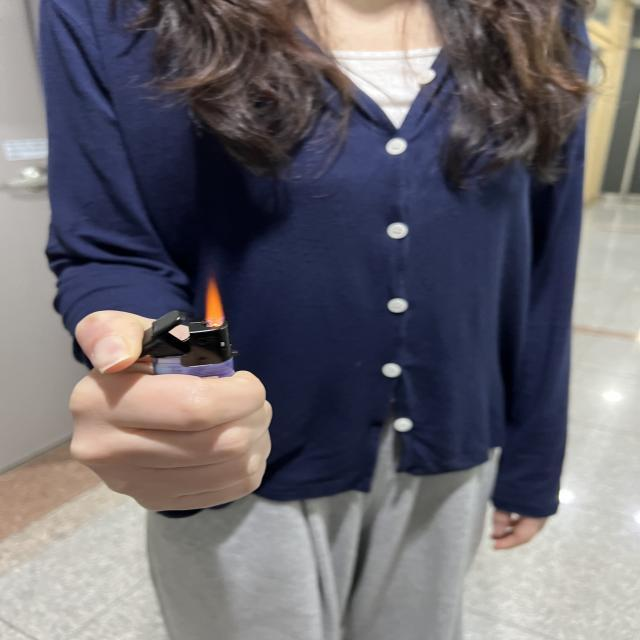fire: (203, 272, 227, 330)
